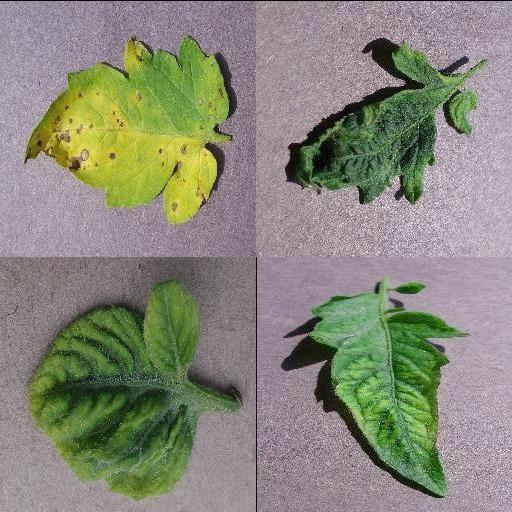Mosaic Virus: (308, 293, 468, 497), (293, 34, 479, 204)
Septoria: (24, 33, 232, 222)
Yellow Leaf Curl Virus: (25, 281, 199, 497)
